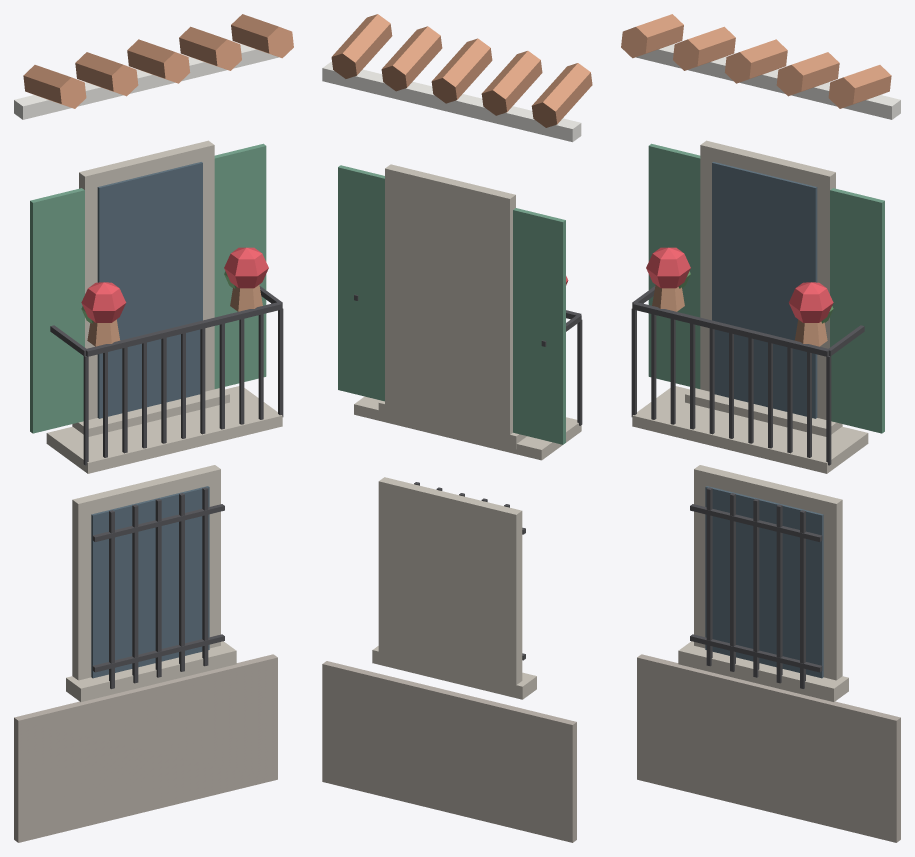
File: VJ_Fachada_C.fbx
The picture shows the model from 3 angles, left to right: view 1: azimuth 30°, elevation 25°; view 2: azimuth 150°, elevation 25°; view 3: azimuth 330°, elevation 25°; orthographic projection. The views are drawn at different scales.
Visible parts, largest first — view 1: VJ_Fachada_C; view 2: VJ_Fachada_C; view 3: VJ_Fachada_C.
Boxes of the visible parts, x1,y1,x2,y2 form: VJ_Fachada_C: (14, 14, 293, 842); VJ_Fachada_C: (322, 14, 592, 842); VJ_Fachada_C: (621, 14, 900, 842).
Bounding box in the file's own units: 2 × 5.74 × 0.6374.
